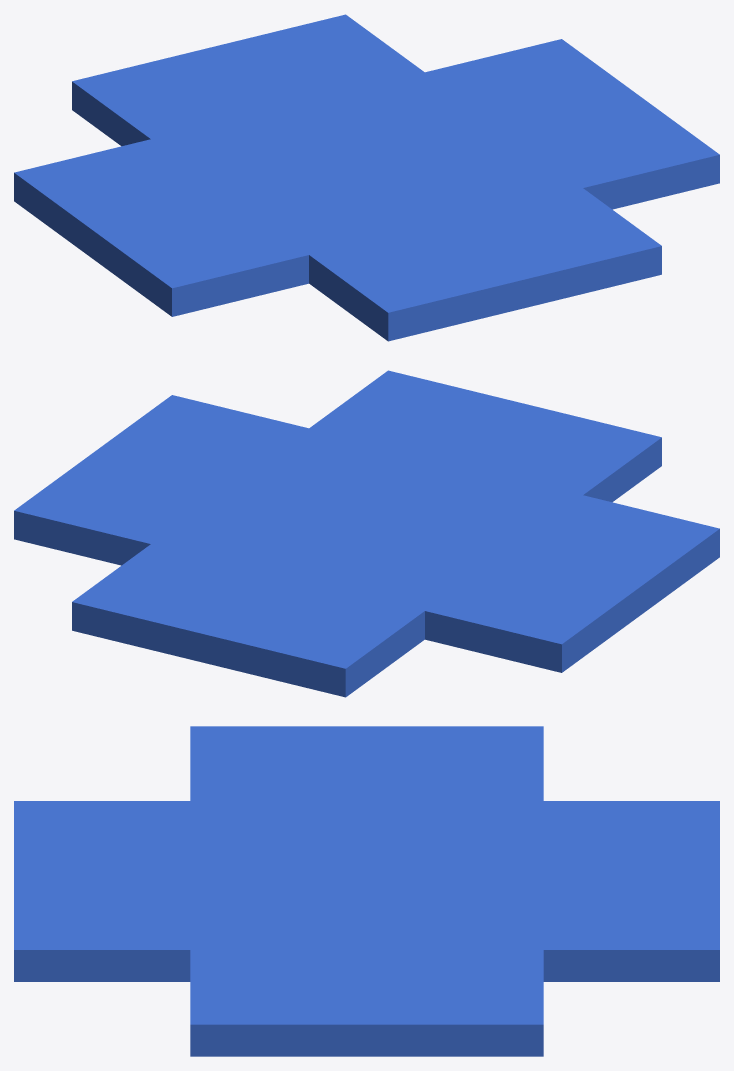
Rendered from block-4-1.glb.
3 renders of one model, top to bottom at view 1: azimuth 30°, elevation 25°; view 2: azimuth 150°, elevation 25°; view 3: azimuth 270°, elevation 25°, orthographic. The views are drawn at different scales.
Parts seen in each view (by area): view 1: block-4-1; view 2: block-4-1; view 3: block-4-1.
Boxes of the visible parts, x1,y1,x2,y2 form: block-4-1: (14,14,719,341); block-4-1: (14,370,719,697); block-4-1: (14,726,719,1056).
Size of the model in its own units: 4 by 0.2 by 4.
